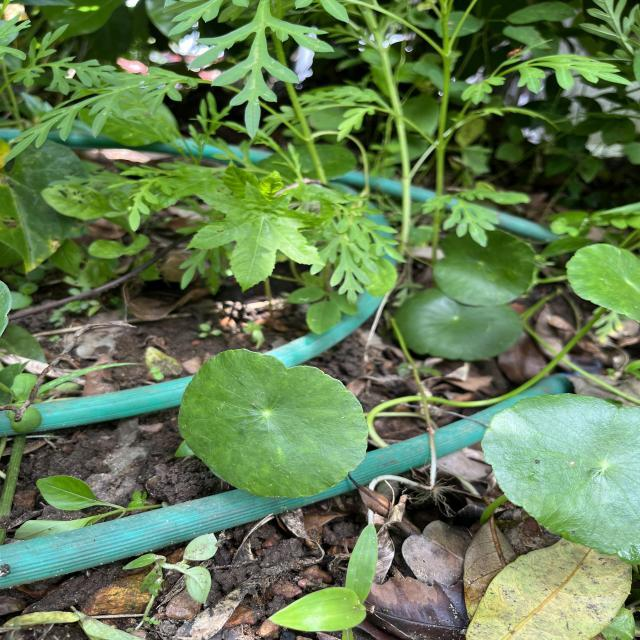Bacopa monnieri: (174, 344, 373, 502), (480, 389, 640, 568)
